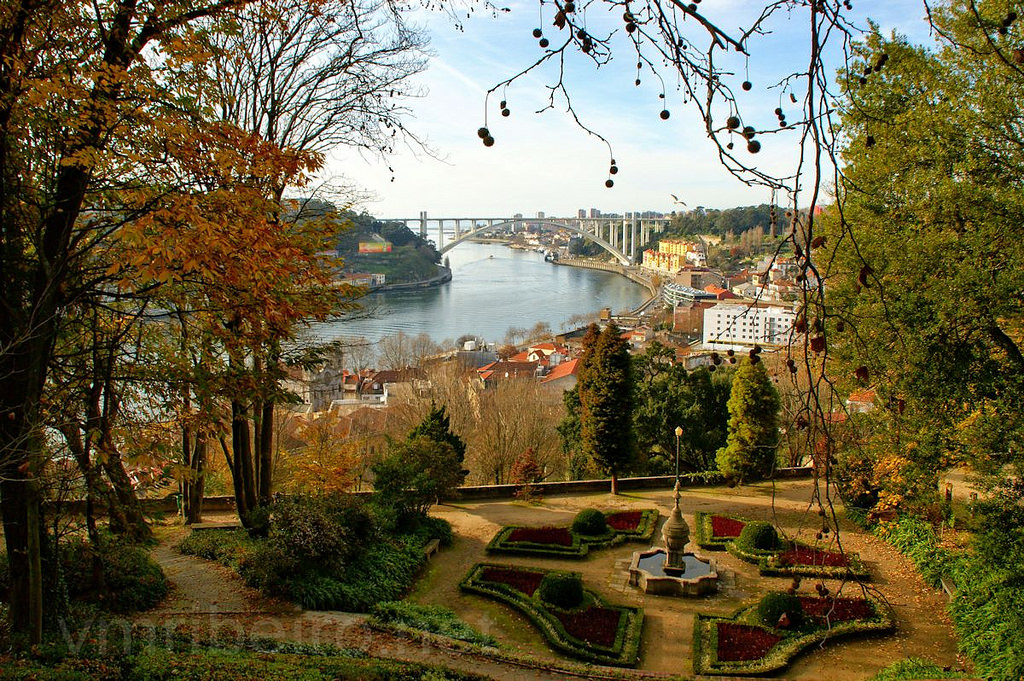arrabida: (377, 208, 678, 267)
